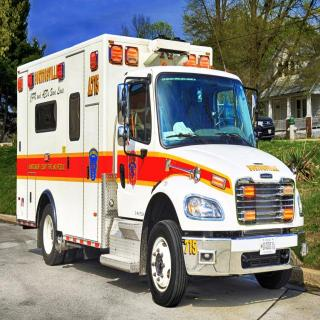Ambulance: (11, 32, 308, 304)
